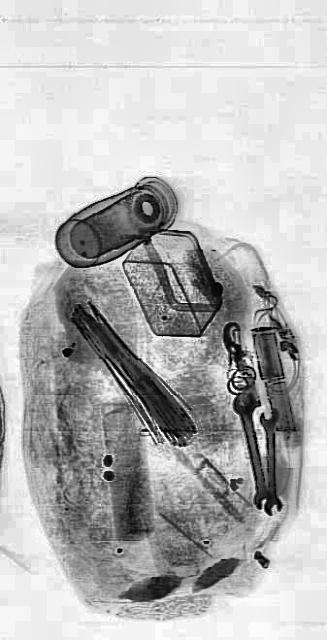Wrench: (230, 383, 274, 512), (258, 407, 282, 518)
